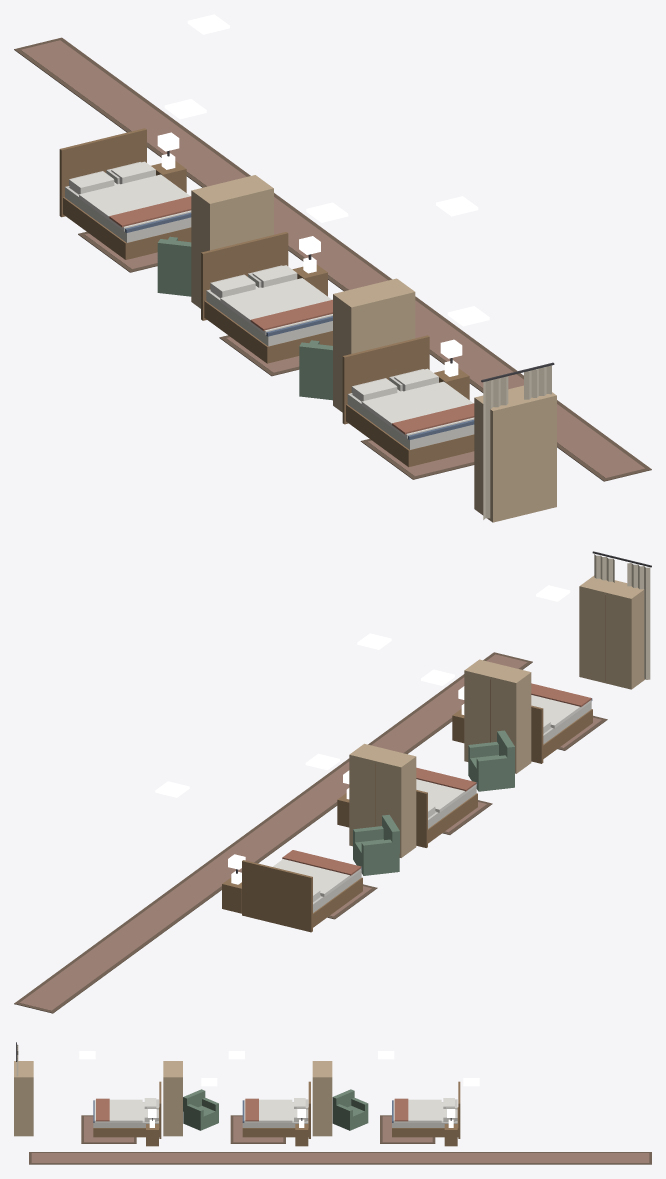
File: fine-s2.glb
3 views of the same model, one above another, from view 1: azimuth 30°, elevation 25°; view 2: azimuth 150°, elevation 25°; view 3: azimuth 270°, elevation 25° (orthographic). The views are drawn at different scales.
Visible parts, largest first — view 1: soft-s2, dresser.005, bed-frame.005, bed-frame.003, bed-frame.004, dresser.003, dresser.004, lounge-chair.002, lounge-chair.003, nightstand.003, nightstand.005, nightstand.004; view 2: soft-s2, dresser.005, dresser.004, dresser.003, bed-frame.003, lounge-chair.003, lounge-chair.002, bed-frame.005, bed-frame.004, nightstand.003; view 3: soft-s2, dresser.003, dresser.004, dresser.005, lounge-chair.002, lounge-chair.003, bed-frame.004, bed-frame.003, bed-frame.005, nightstand.003, nightstand.004, nightstand.005.
Boxes of the visible parts, x1,y1,x2,y2 form: soft-s2: (14,37,651,519); dresser.005: (474,385,556,522); bed-frame.005: (342,335,474,467); bed-frame.003: (59,128,191,259); bed-frame.004: (201,231,332,363); dresser.003: (191,175,273,308); dresser.004: (333,278,415,412); lounge-chair.002: (157,236,191,296); lounge-chair.003: (299,340,332,400); nightstand.003: (151,153,186,192); nightstand.005: (434,360,469,399); nightstand.004: (292,256,327,296); soft-s2: (14,551,651,1013); dresser.005: (579,575,644,689); dresser.004: (464,659,531,773); dresser.003: (349,743,416,857); bed-frame.003: (242,860,362,932); lounge-chair.003: (468,730,514,791); lounge-chair.002: (353,814,399,875); bed-frame.005: (531,698,592,763); bed-frame.004: (416,782,477,847); nightstand.003: (222,871,241,913); soft-s2: (16,1042,651,1164); dresser.003: (312,1061,332,1136); dresser.004: (163,1061,182,1136); dresser.005: (14,1061,33,1136); lounge-chair.002: (332,1089,368,1130); lounge-chair.003: (183,1089,218,1130); bed-frame.004: (242,1081,310,1138); bed-frame.003: (392,1081,460,1138); bed-frame.005: (93,1081,161,1138); nightstand.003: (444,1119,457,1146); nightstand.004: (295,1119,308,1146); nightstand.005: (146,1119,158,1146).
Size of the model in its own units: 3.55 by 2.62 by 19.63.
